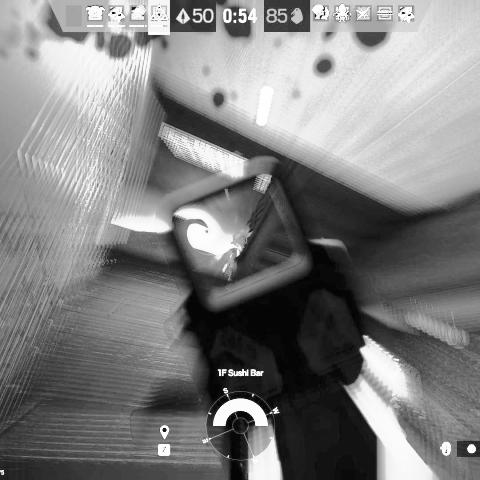Character: (222, 247, 239, 280)
Head: (228, 248, 238, 259)
